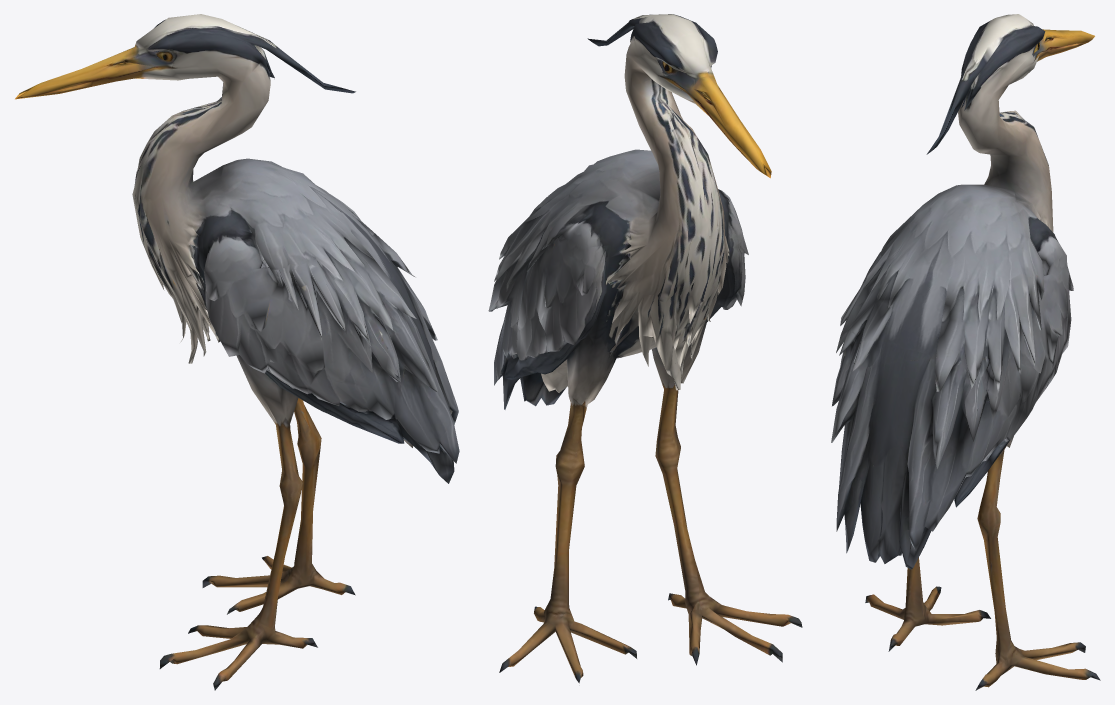
Rendered from env-heron.glb.
3 renders of one model, left to right at view 1: azimuth 30°, elevation 25°; view 2: azimuth 150°, elevation 25°; view 3: azimuth 270°, elevation 25°, orthographic. The views are drawn at different scales.
Parts seen in each view (by area): view 1: tripo_node_8c9a6c2b-276b-4a14-b914-3d6b6bc5b5d8; view 2: tripo_node_8c9a6c2b-276b-4a14-b914-3d6b6bc5b5d8; view 3: tripo_node_8c9a6c2b-276b-4a14-b914-3d6b6bc5b5d8.
Boxes of the visible parts, x1,y1,x2,y2 form: tripo_node_8c9a6c2b-276b-4a14-b914-3d6b6bc5b5d8: [15, 14, 459, 690]; tripo_node_8c9a6c2b-276b-4a14-b914-3d6b6bc5b5d8: [488, 14, 802, 683]; tripo_node_8c9a6c2b-276b-4a14-b914-3d6b6bc5b5d8: [831, 14, 1100, 690].
Bounding box in the file's own units: 0.5988 × 1 × 0.4004.
1 material, 1 textured.
